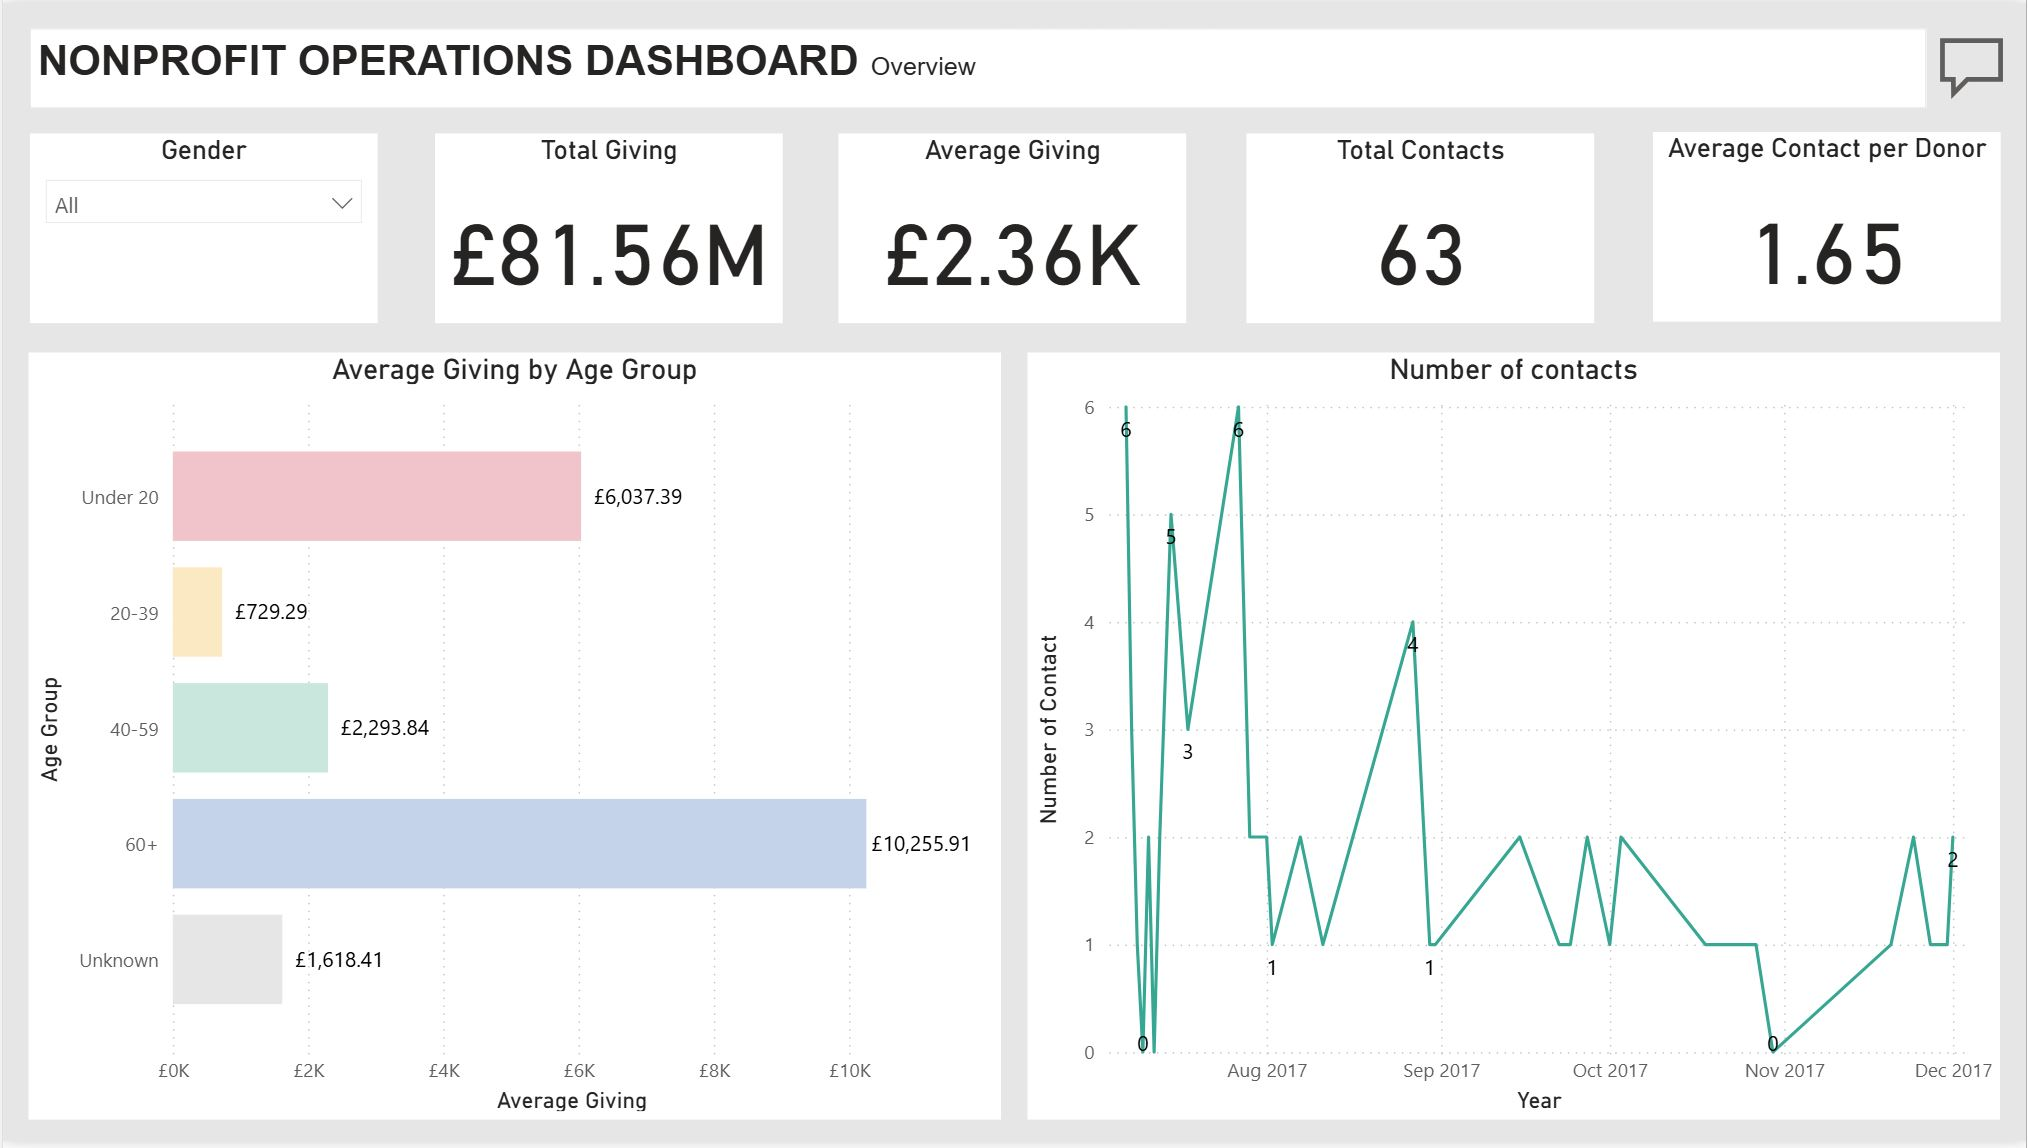

The dashboard page shown, as its layout file describes it:
{"tool":"powerbi","page":{"name":"Overview","canvas":[1280,720],"ordinal":0},"visuals":[{"type":"textbox","box":[17,16,1200,50],"z":1},{"type":"card","title":"Total Giving","fields":{"Values":["Sum(Donors.TotalGiving)"]},"box":[17,82,220.3,120.3],"z":2},{"type":"card","title":"Average Giving","fields":{"Values":["Avg(Donors.TotalGiving)"]},"box":[338.5,82,220.3,120.3],"z":3},{"type":"card","title":"Total Contacts","fields":{"Values":["Sum(Contacts.Contact)"]},"box":[698.2,82,220.3,120.3],"z":4},{"type":"card","title":"Average Contact per Donor","fields":{"Values":["Contacts.Avg_contact"]},"box":[1038.8,82,220.3,120.3],"z":5},{"type":"clusteredColumnChart","title":"Number of contacts by Month","fields":{"Category":["Contacts.Date.Variation.Date Hierarchy.Month","Contacts.Date.Variation.Date Hierarchy.Day"],"Y":["Sum(Contacts.Contact)"]},"box":[17,224.6,610,475.7],"z":6},{"type":"clusteredBarChart","title":"Average Giving by Age Group","fields":{"Category":["Donors.Age_group"],"Y":["Avg(Donors.TotalGiving)"]},"box":[649.2,224.6,609.9,475.7],"z":7},{"type":"actionButton","box":[1220.4,16,59.6,50],"z":8}]}

Visuals, with their boxes in screenshot pixels (x1, y1, x2, y2), scaled from the page's 1280x720 canvas onto the 2028x1148 screenshot:
textbox: rect(27, 26, 1928, 105)
"Total Giving" card: rect(27, 131, 376, 323)
"Average Giving" card: rect(536, 131, 885, 323)
"Total Contacts" card: rect(1106, 131, 1455, 323)
"Average Contact per Donor" card: rect(1646, 131, 1995, 323)
"Number of contacts by Month" clusteredColumnChart: rect(27, 358, 993, 1117)
"Average Giving by Age Group" clusteredBarChart: rect(1029, 358, 1995, 1117)
actionButton: rect(1934, 26, 2027, 105)
